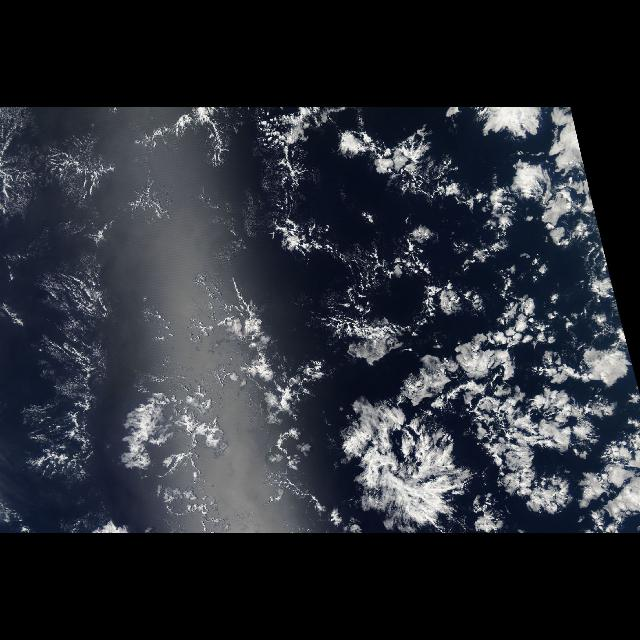Sugar: (2, 128, 156, 502)
